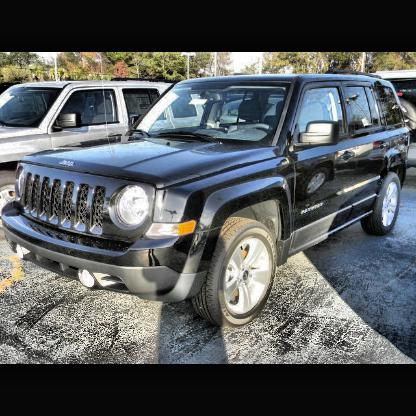Jeep Patriot SUV 2012: (2, 73, 414, 334)
